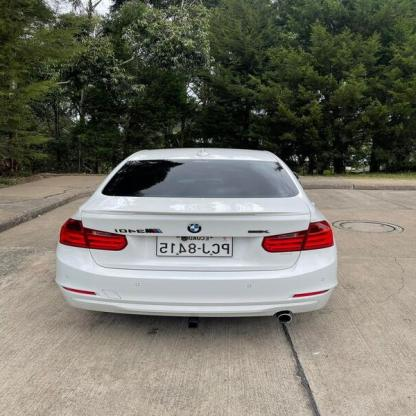Placa: (154, 228, 236, 260)
